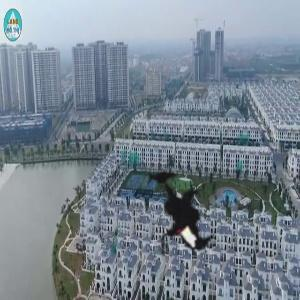drone: (99, 141, 247, 289)
